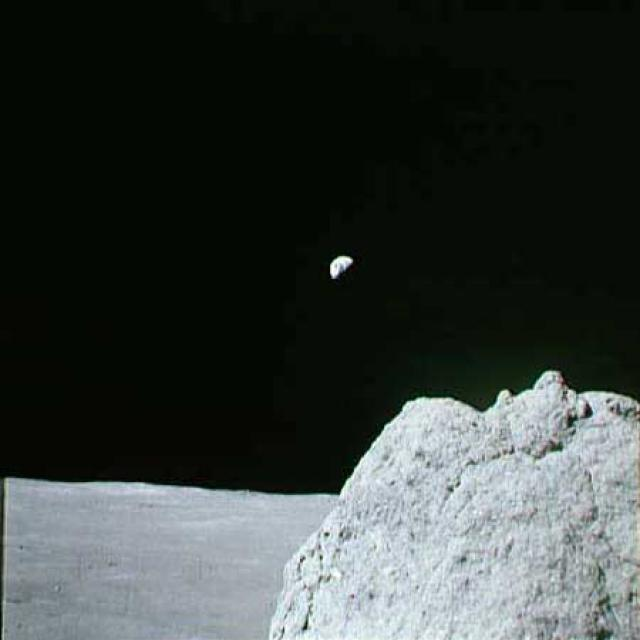rock: (263, 358, 639, 638)
